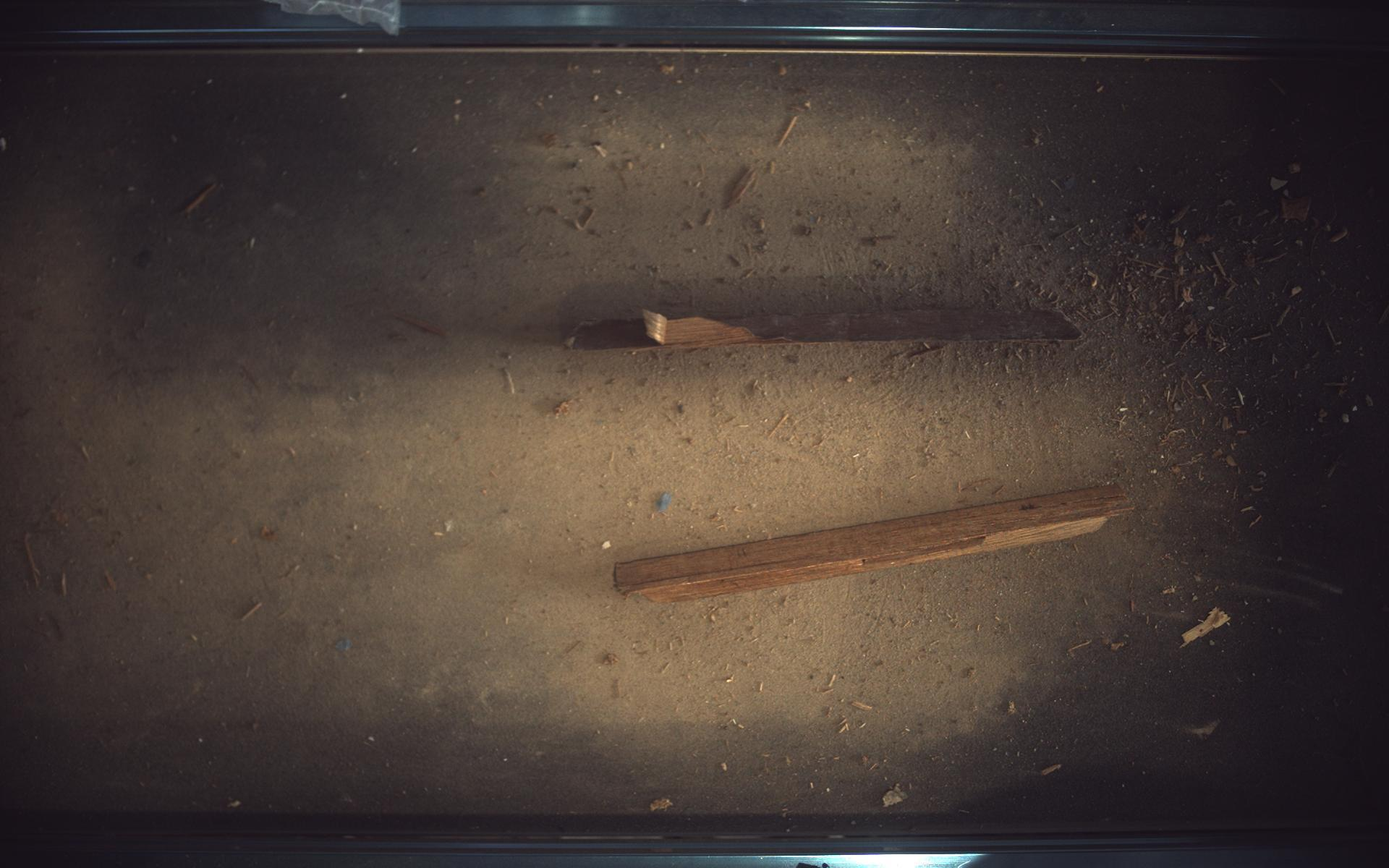wood: (615, 485, 1135, 603), (567, 308, 1083, 350)
